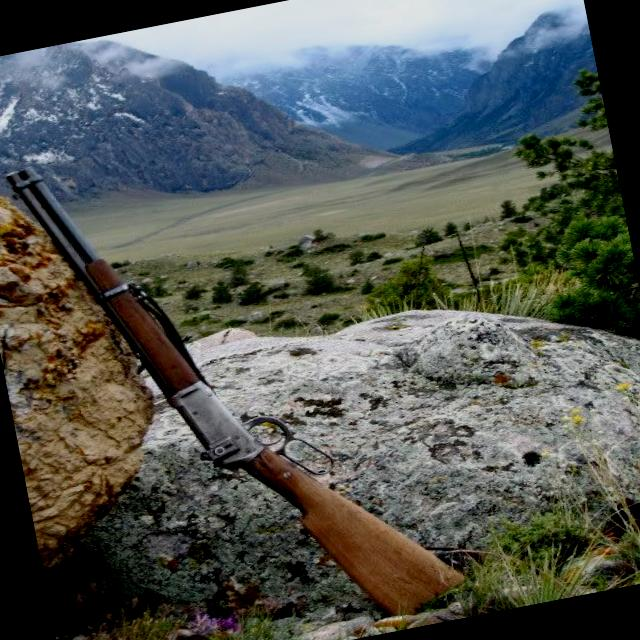shotgun: (0, 85, 484, 640)
